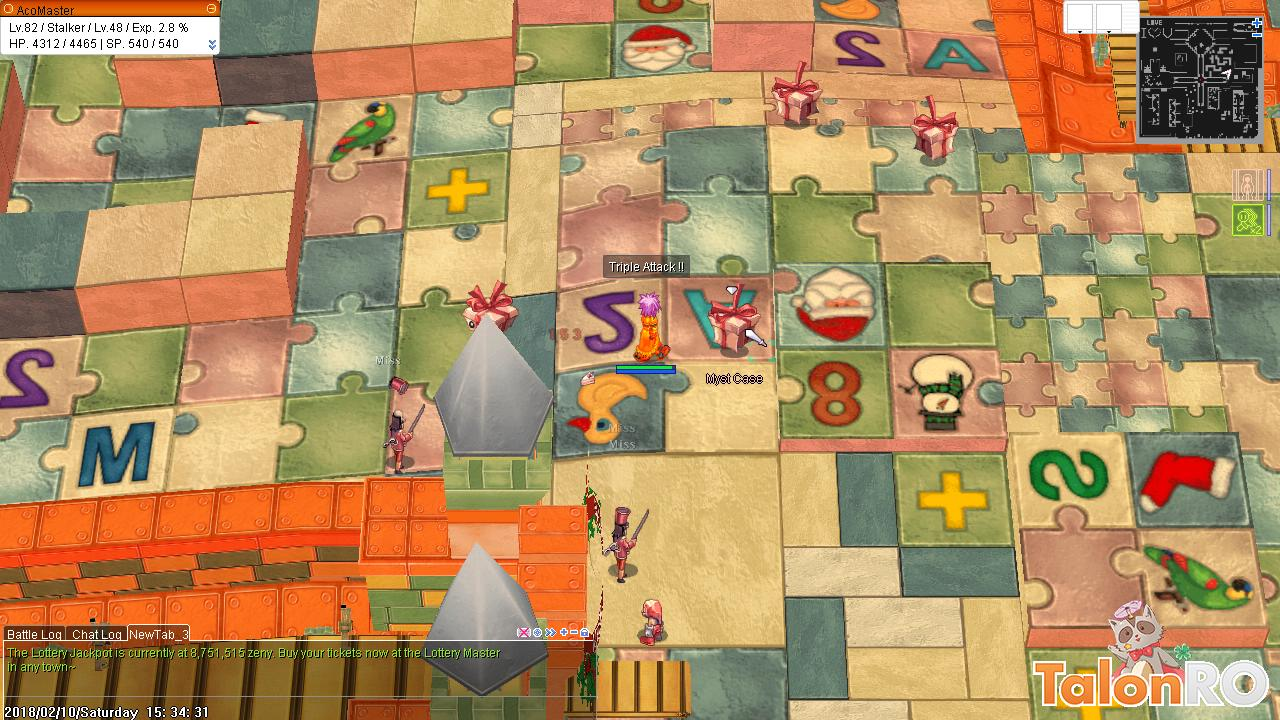loot: (577, 366, 598, 389)
mob: (374, 372, 434, 481), (597, 502, 655, 587)
myst_case: (705, 287, 766, 358), (907, 88, 961, 165), (459, 280, 519, 341), (771, 58, 823, 127)
